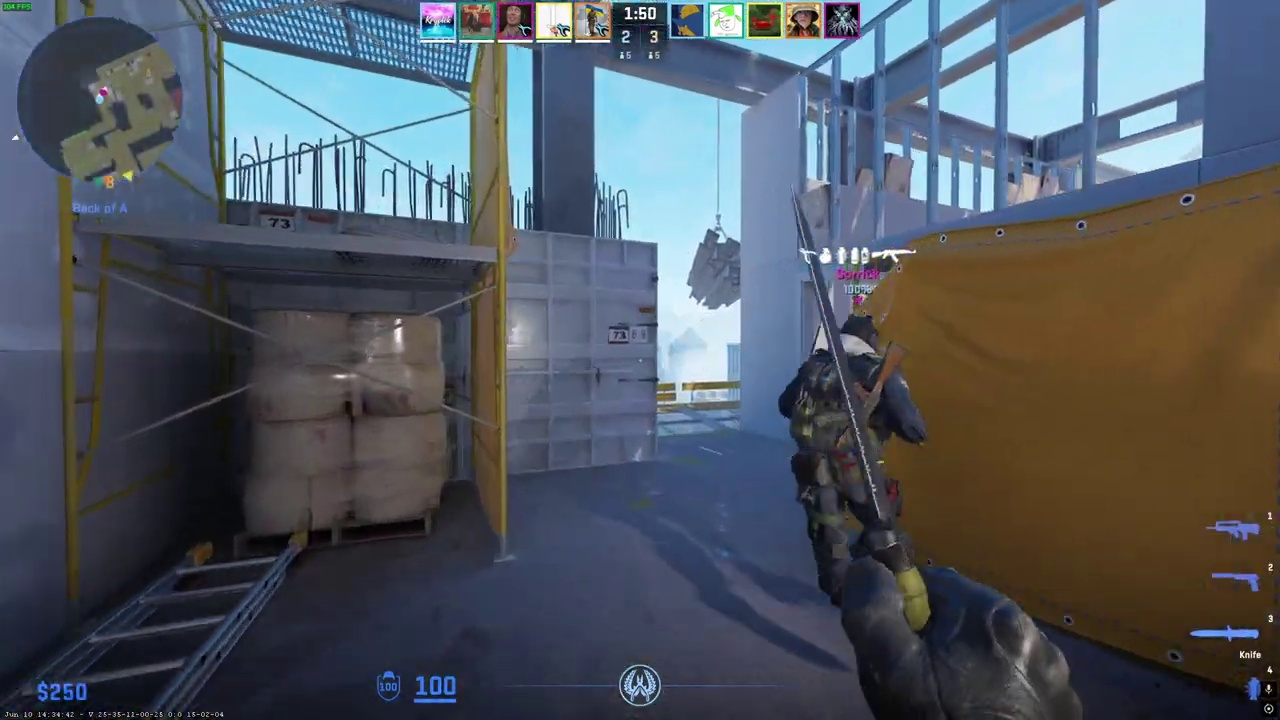CT: (789, 314, 923, 625)
